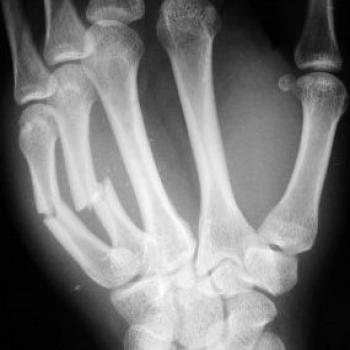Fracture: (80, 171, 118, 214), (34, 200, 70, 227)
